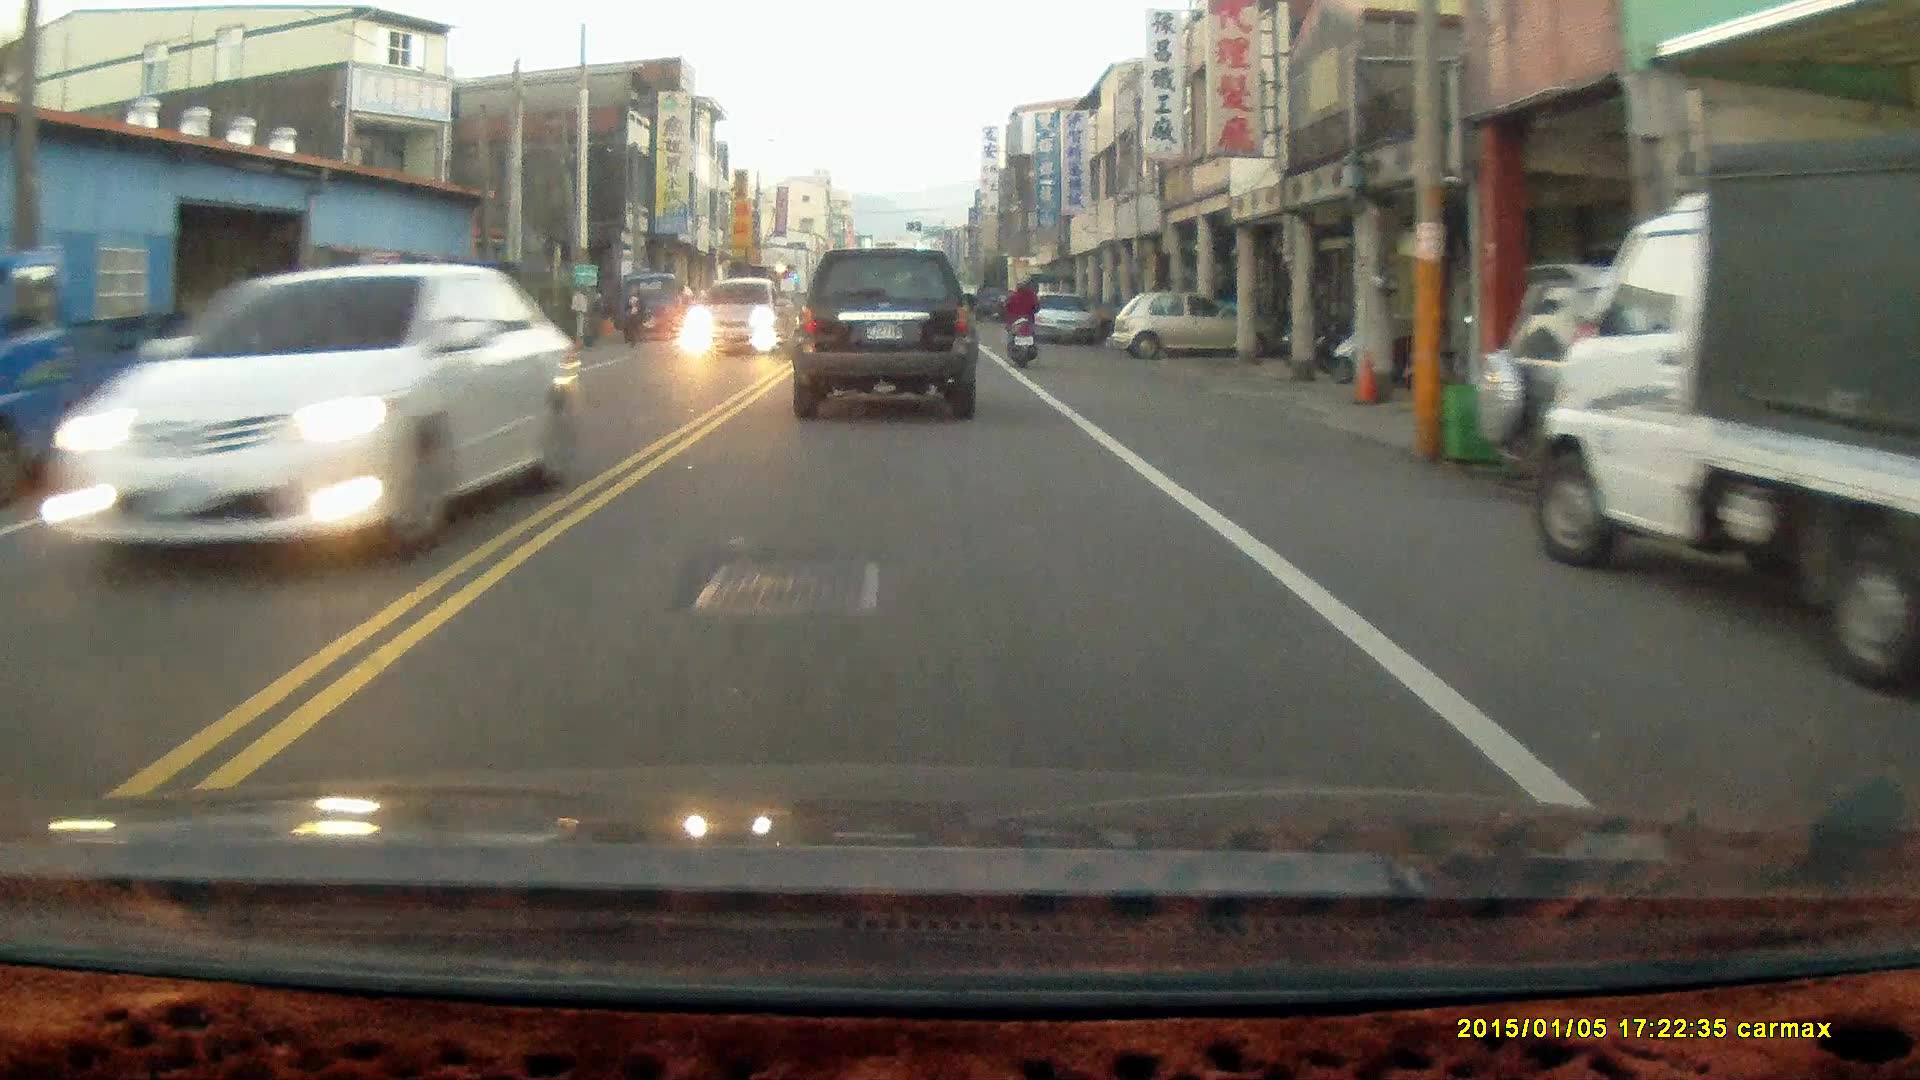pedestrian: (624, 285, 645, 345)
rider: (1004, 274, 1041, 369)
vehicle: (1533, 132, 1920, 697), (46, 265, 587, 570), (1473, 269, 1919, 506), (787, 251, 982, 428), (1111, 295, 1252, 365), (687, 281, 793, 362), (1028, 293, 1102, 347)
